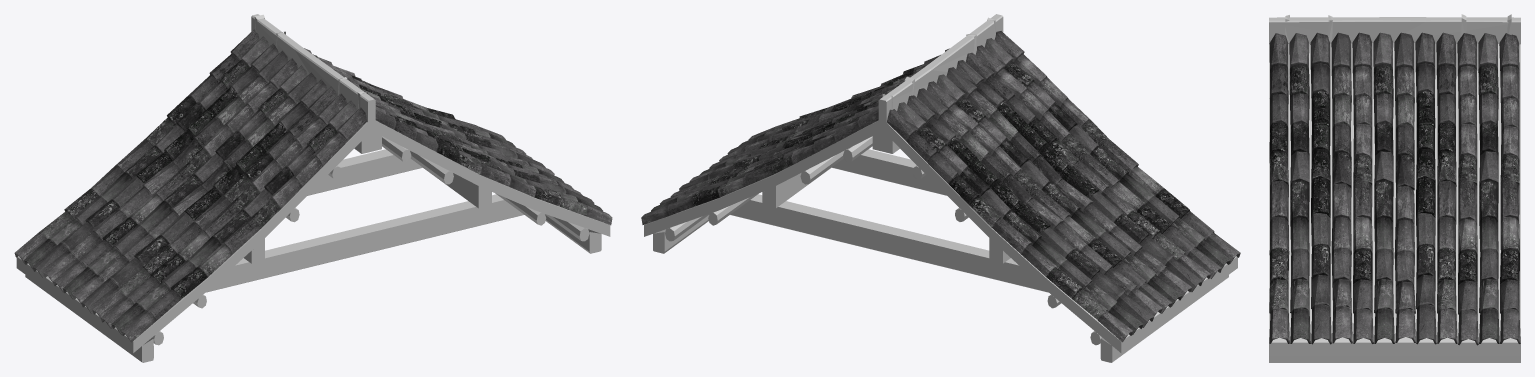
Rendered from WaDing_5.fbx.
3 views of the same model, side by side, from view 1: azimuth 30°, elevation 25°; view 2: azimuth 150°, elevation 25°; view 3: azimuth 270°, elevation 25° (orthographic). The views are drawn at different scales.
Visible parts, largest first — view 1: 3D_WaDing_WuYan.mo; view 2: 3D_WaDing_WuYan.mo; view 3: 3D_WaDing_WuYan.mo.
Part boxes in pixels (<box>): 3D_WaDing_WuYan.mo: <box>14,14,612,362</box>; 3D_WaDing_WuYan.mo: <box>641,14,1240,362</box>; 3D_WaDing_WuYan.mo: <box>1269,14,1520,362</box>.
Size of the model in its own units: 787 by 323 by 326.
